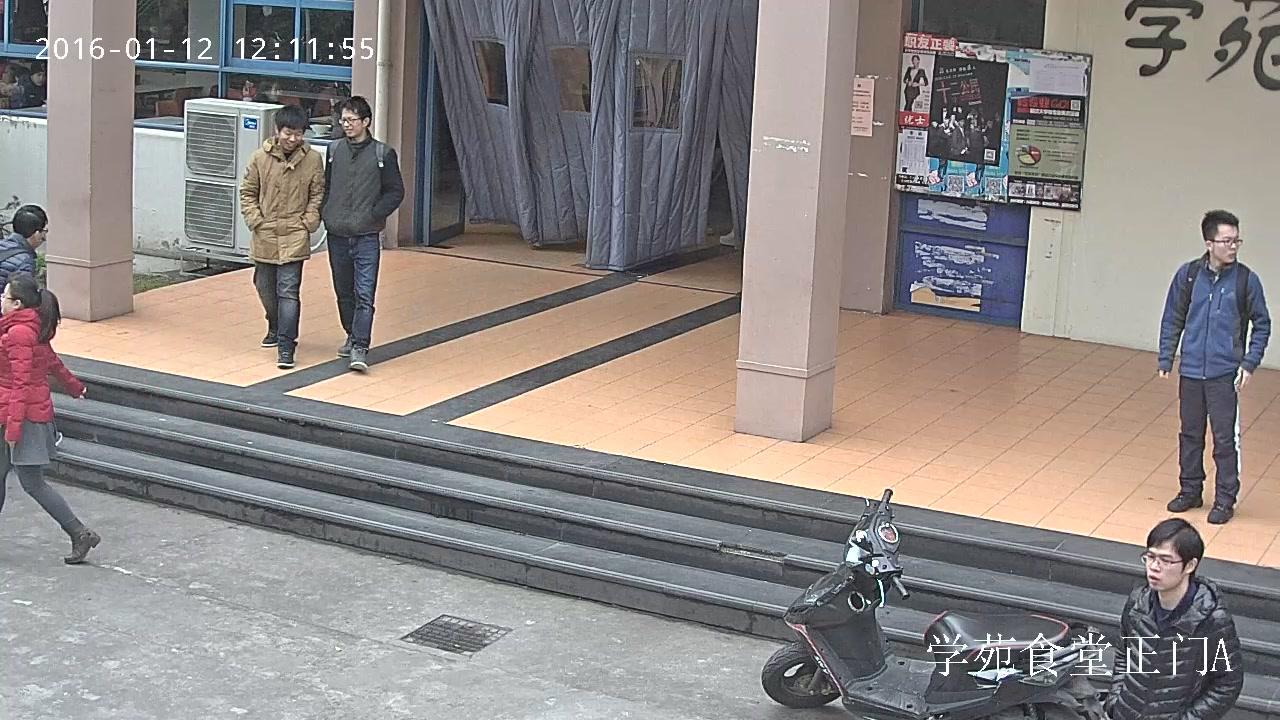person: (1158, 210, 1271, 523), (0, 276, 101, 564), (1103, 518, 1243, 720), (321, 95, 404, 372), (240, 103, 325, 369), (0, 204, 63, 452), (16, 62, 46, 107), (903, 55, 927, 111)
